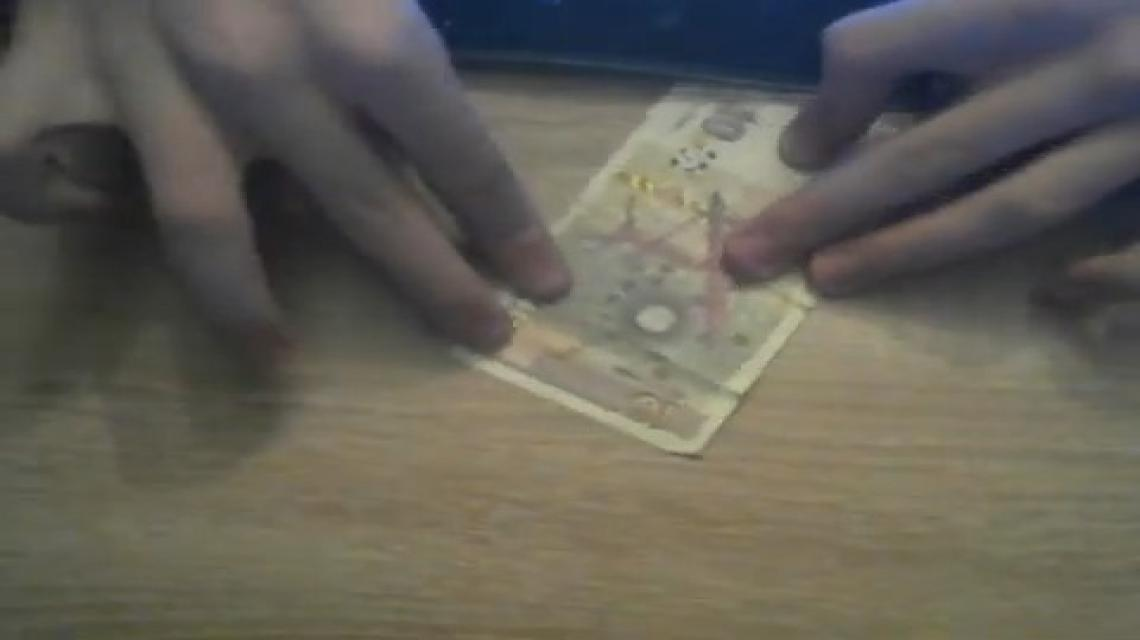10leva: (446, 87, 815, 459)
